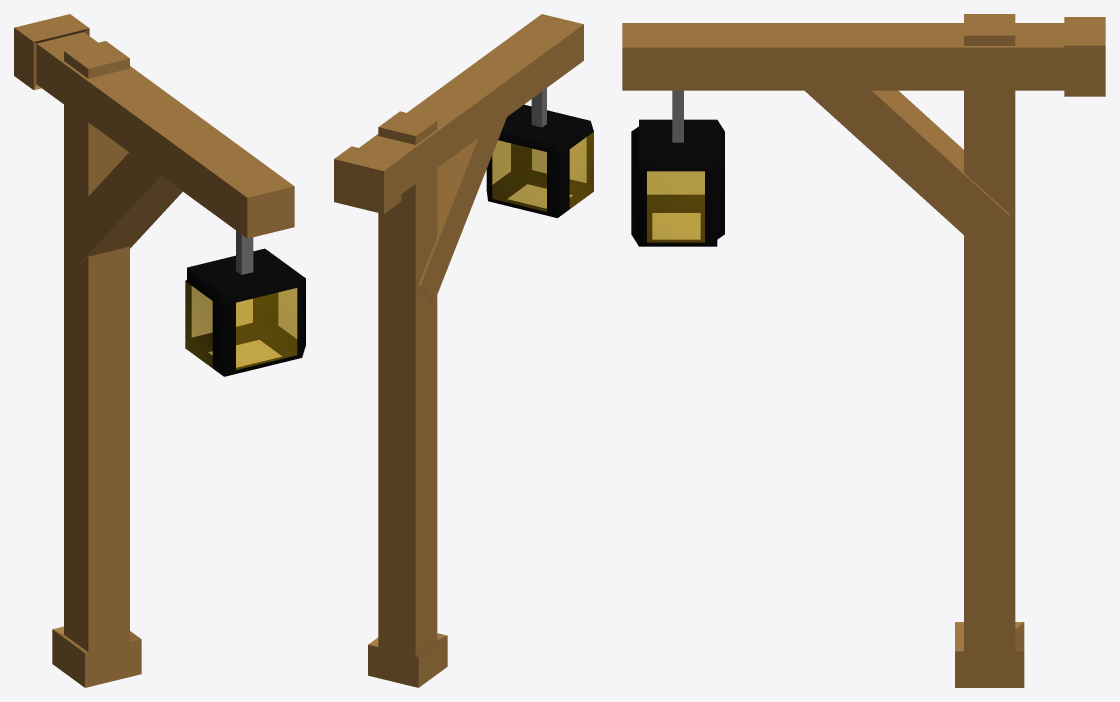
The model's file is StreetLamp.fbx.
3 views of the same model, side by side, from view 1: azimuth 30°, elevation 25°; view 2: azimuth 150°, elevation 25°; view 3: azimuth 270°, elevation 25° (orthographic). The views are drawn at different scales.
Parts seen in each view (by area): view 1: polySurface1; view 2: polySurface1; view 3: polySurface1.
Part boxes in pixels (x1,y1,x2,y2): polySurface1: [14, 14, 305, 687]; polySurface1: [334, 14, 593, 687]; polySurface1: [622, 14, 1105, 687].
Bounding box in the file's own units: 2.22 × 14 × 9.46.
